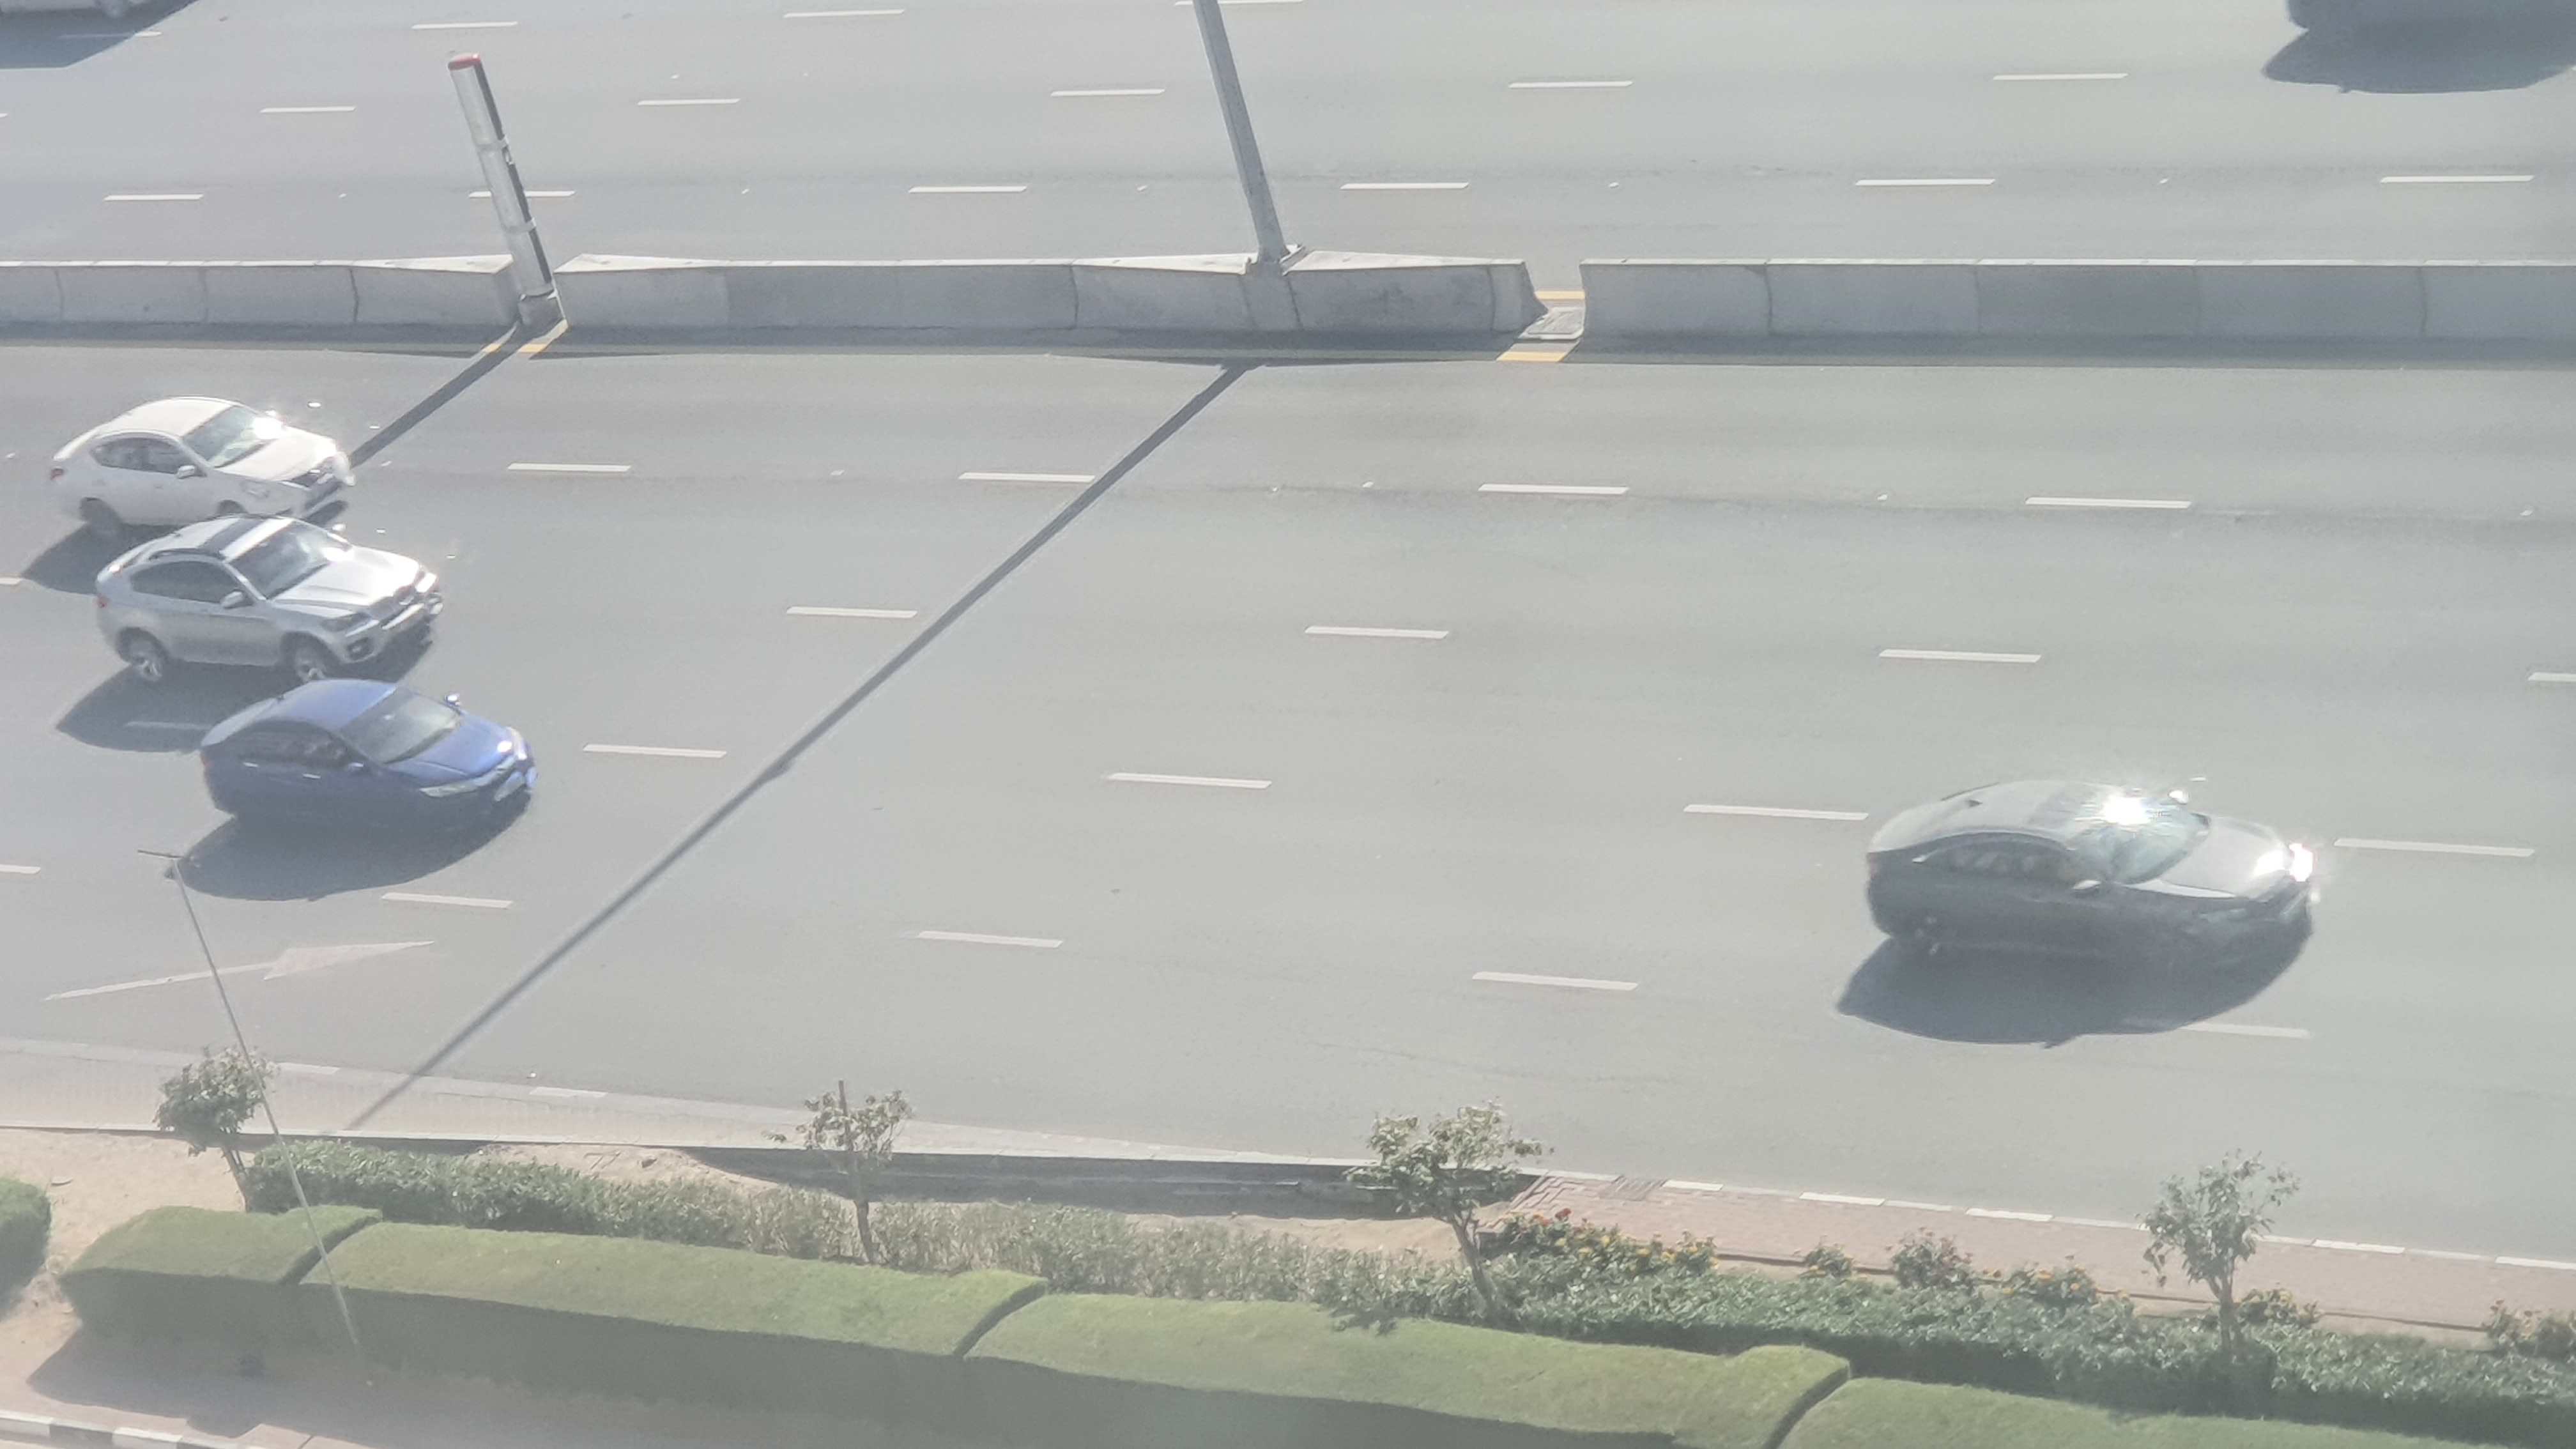NotSunroof: (205, 681, 534, 847), (51, 395, 356, 524)
Sunroof: (1858, 773, 2321, 996), (94, 515, 446, 674)
